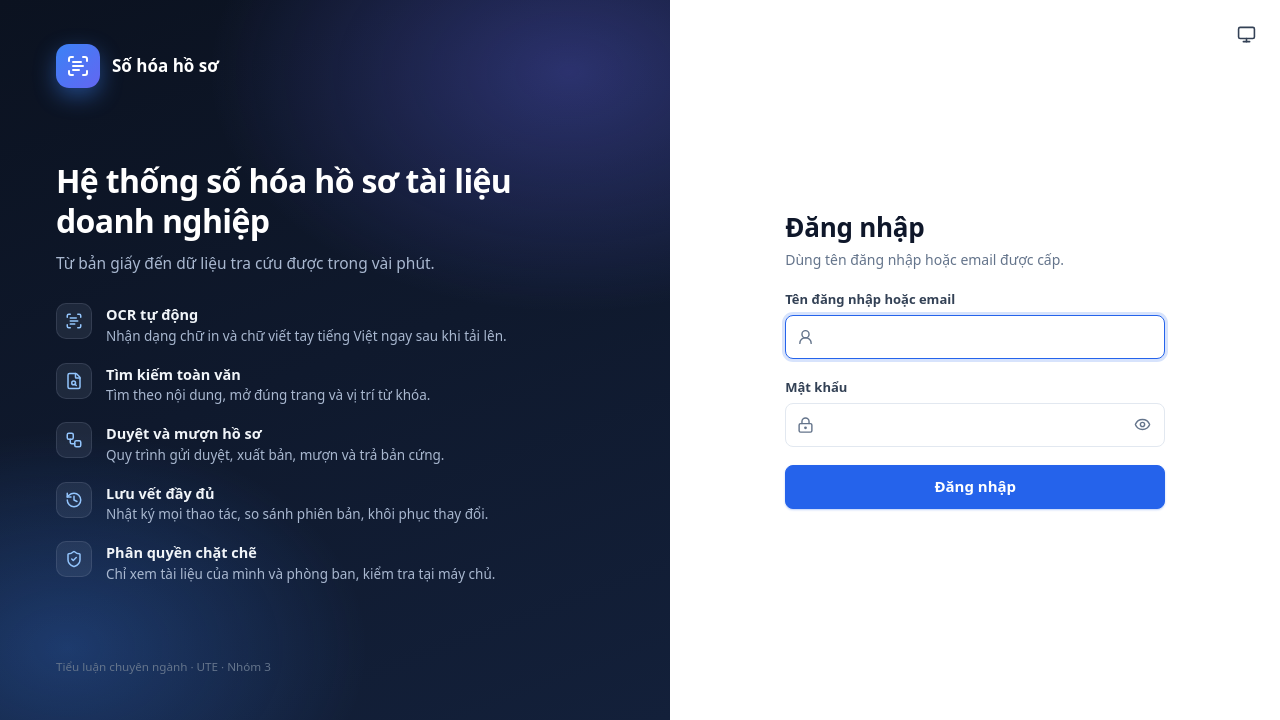
Test: Router + session (SDD mục 13, 15) › đăng nhập sai: hiển thị lỗi từ envelope
Type "x" into the field labelled "Tên đăng nhập hoặc email" at (975, 337), box [785,315,1165,359]
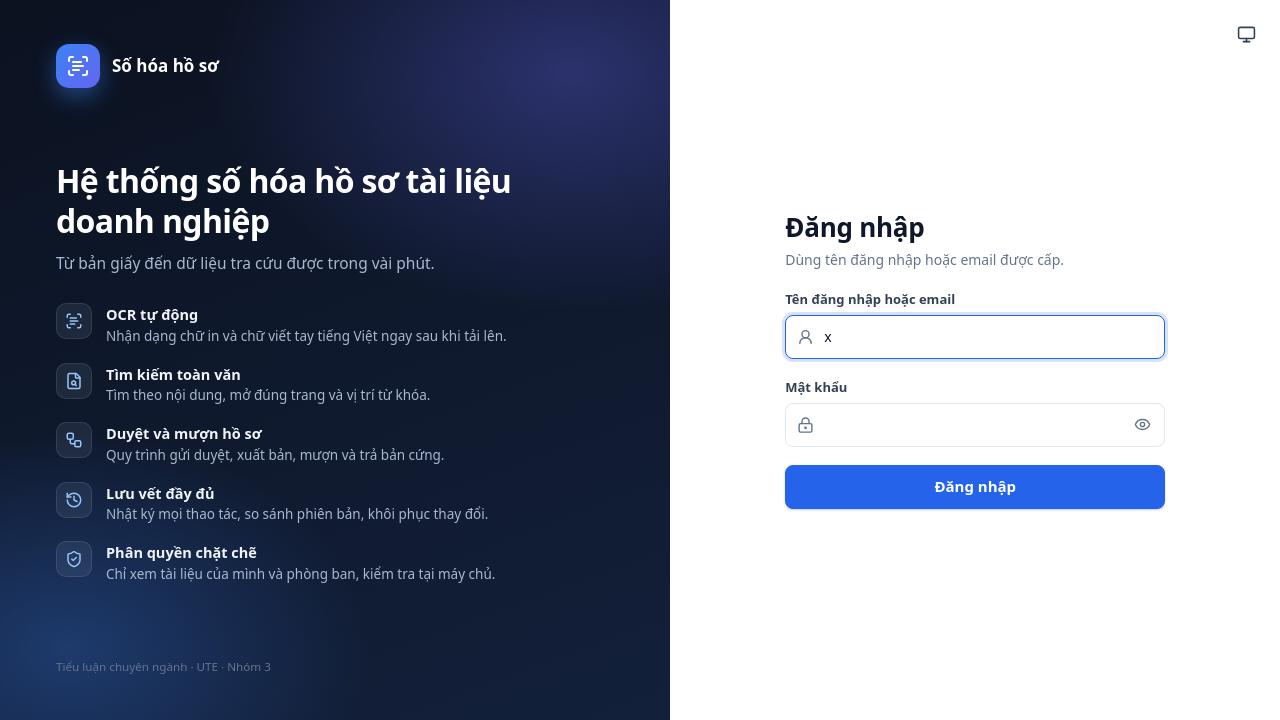
Type "y" into the password field labelled "Mật khẩu" at (975, 425), box [785,403,1165,447]
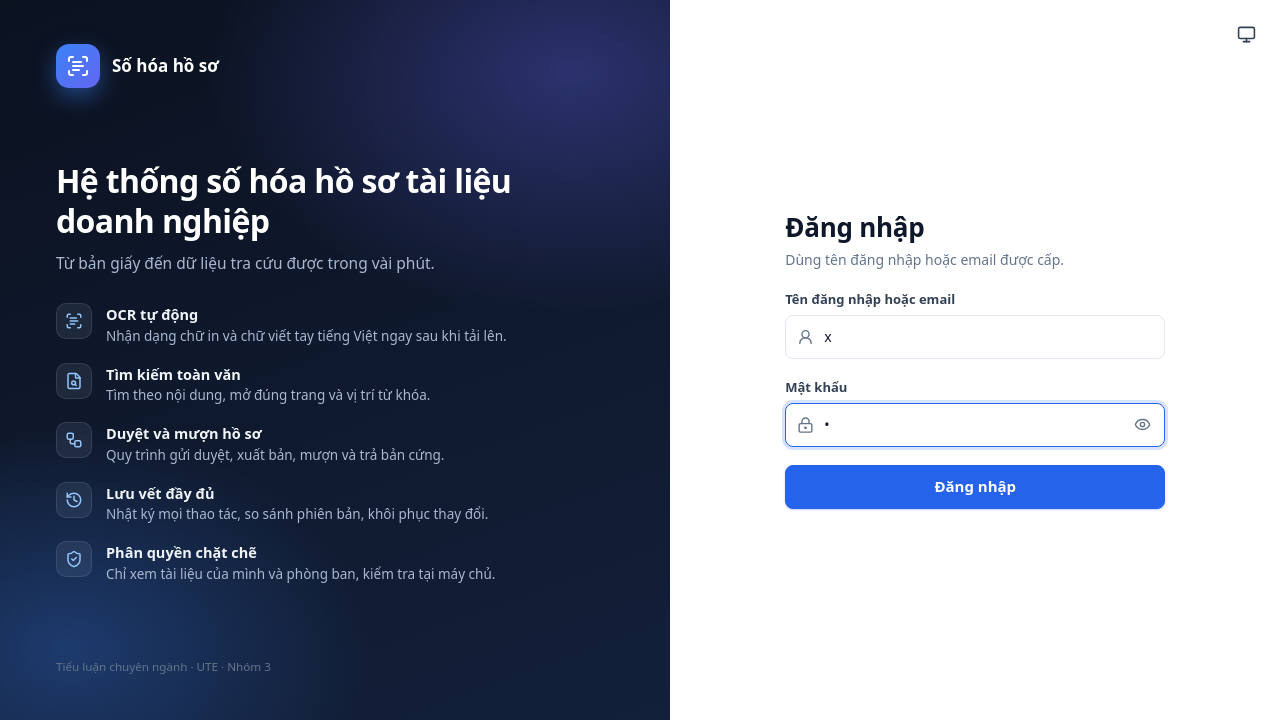
Click the button "Đăng nhập" at (975, 487), box [785,465,1165,509]
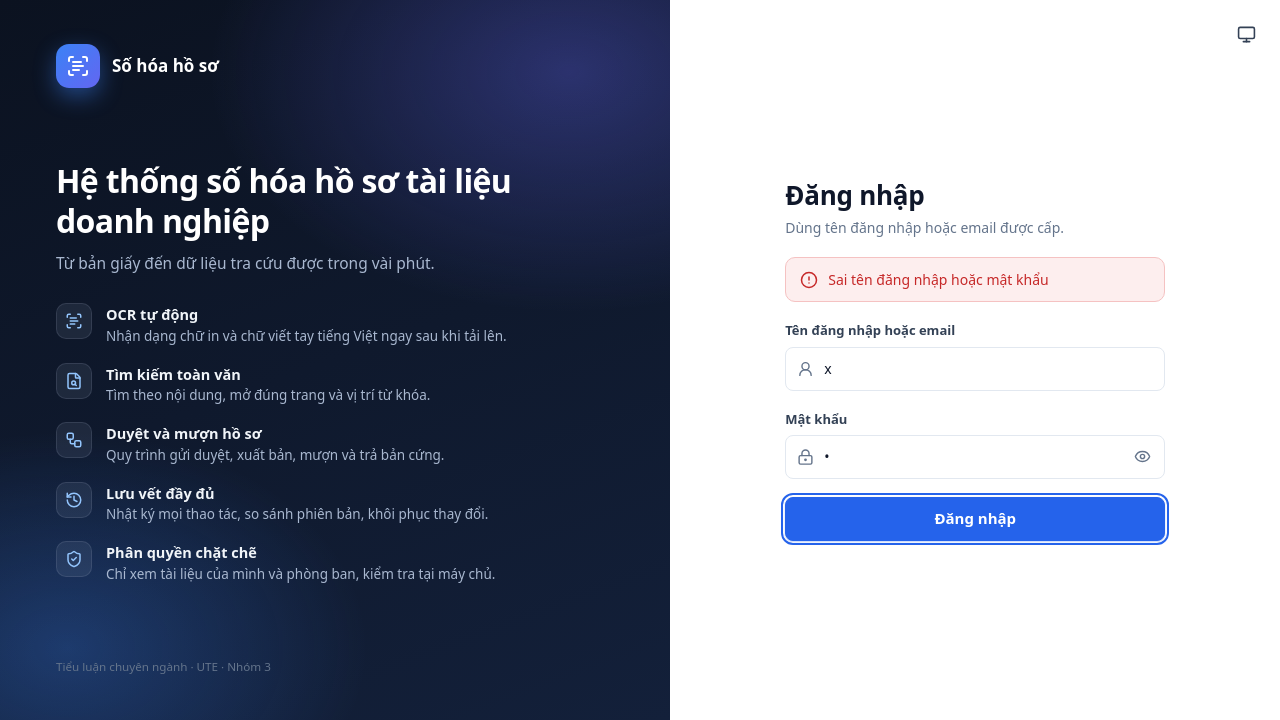
Expected: the message reads "Sai tên đăng nhập hoặc mật khẩu", [828,270,1049,289]
